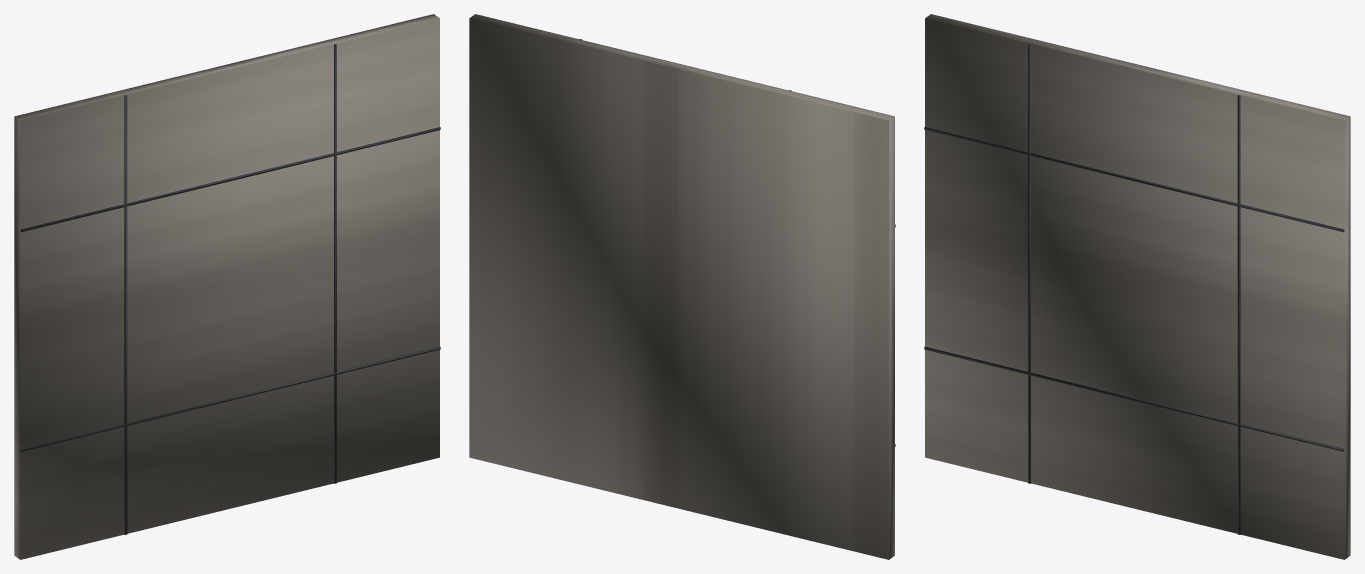
File: ARCH_FLOOR_CONCRETE_TILE_001.glb
The picture shows the model from 3 angles, left to right: view 1: azimuth 30°, elevation 25°; view 2: azimuth 150°, elevation 25°; view 3: azimuth 330°, elevation 25°; orthographic projection.
Parts seen in each view (by area): view 1: floor_tile_000, tile_groove_001, tile_groove_003, tile_groove_004, tile_groove_002; view 2: floor_tile_000; view 3: floor_tile_000, tile_groove_002, tile_groove_003, tile_groove_004, tile_groove_001.
Boxes of the visible parts, x1=… form: floor_tile_000: x1=14, y1=14, x2=439, y2=559; tile_groove_001: x1=124, y1=95, x2=127, y2=534; tile_groove_003: x1=20, y1=346, x2=440, y2=451; tile_groove_004: x1=20, y1=127, x2=440, y2=232; tile_groove_002: x1=334, y1=44, x2=336, y2=483; floor_tile_000: x1=469, y1=14, x2=894, y2=559; floor_tile_000: x1=925, y1=14, x2=1350, y2=559; tile_groove_002: x1=1237, y1=95, x2=1240, y2=534; tile_groove_003: x1=924, y1=346, x2=1344, y2=451; tile_groove_004: x1=924, y1=127, x2=1344, y2=232; tile_groove_001: x1=1028, y1=44, x2=1030, y2=483.
Size of the model in its own units: 2 by 2 by 0.055.
2 materials, 2 textured.
